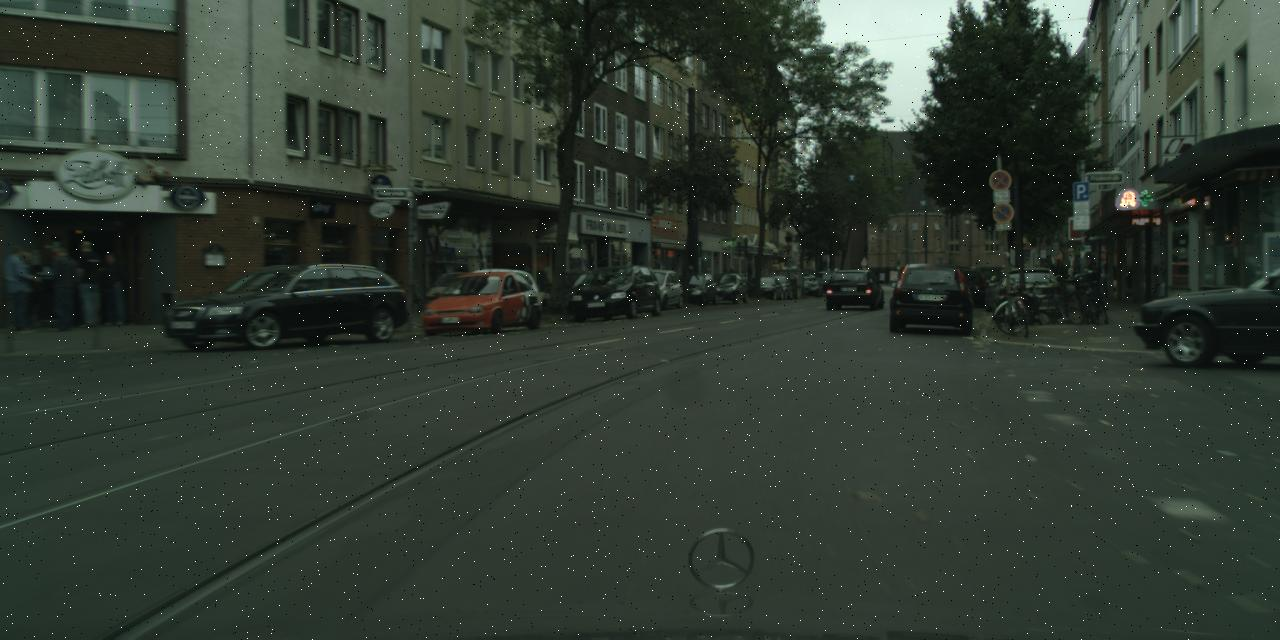ped: (4, 245, 46, 333), (70, 241, 106, 326), (46, 246, 80, 331), (96, 252, 125, 324)
